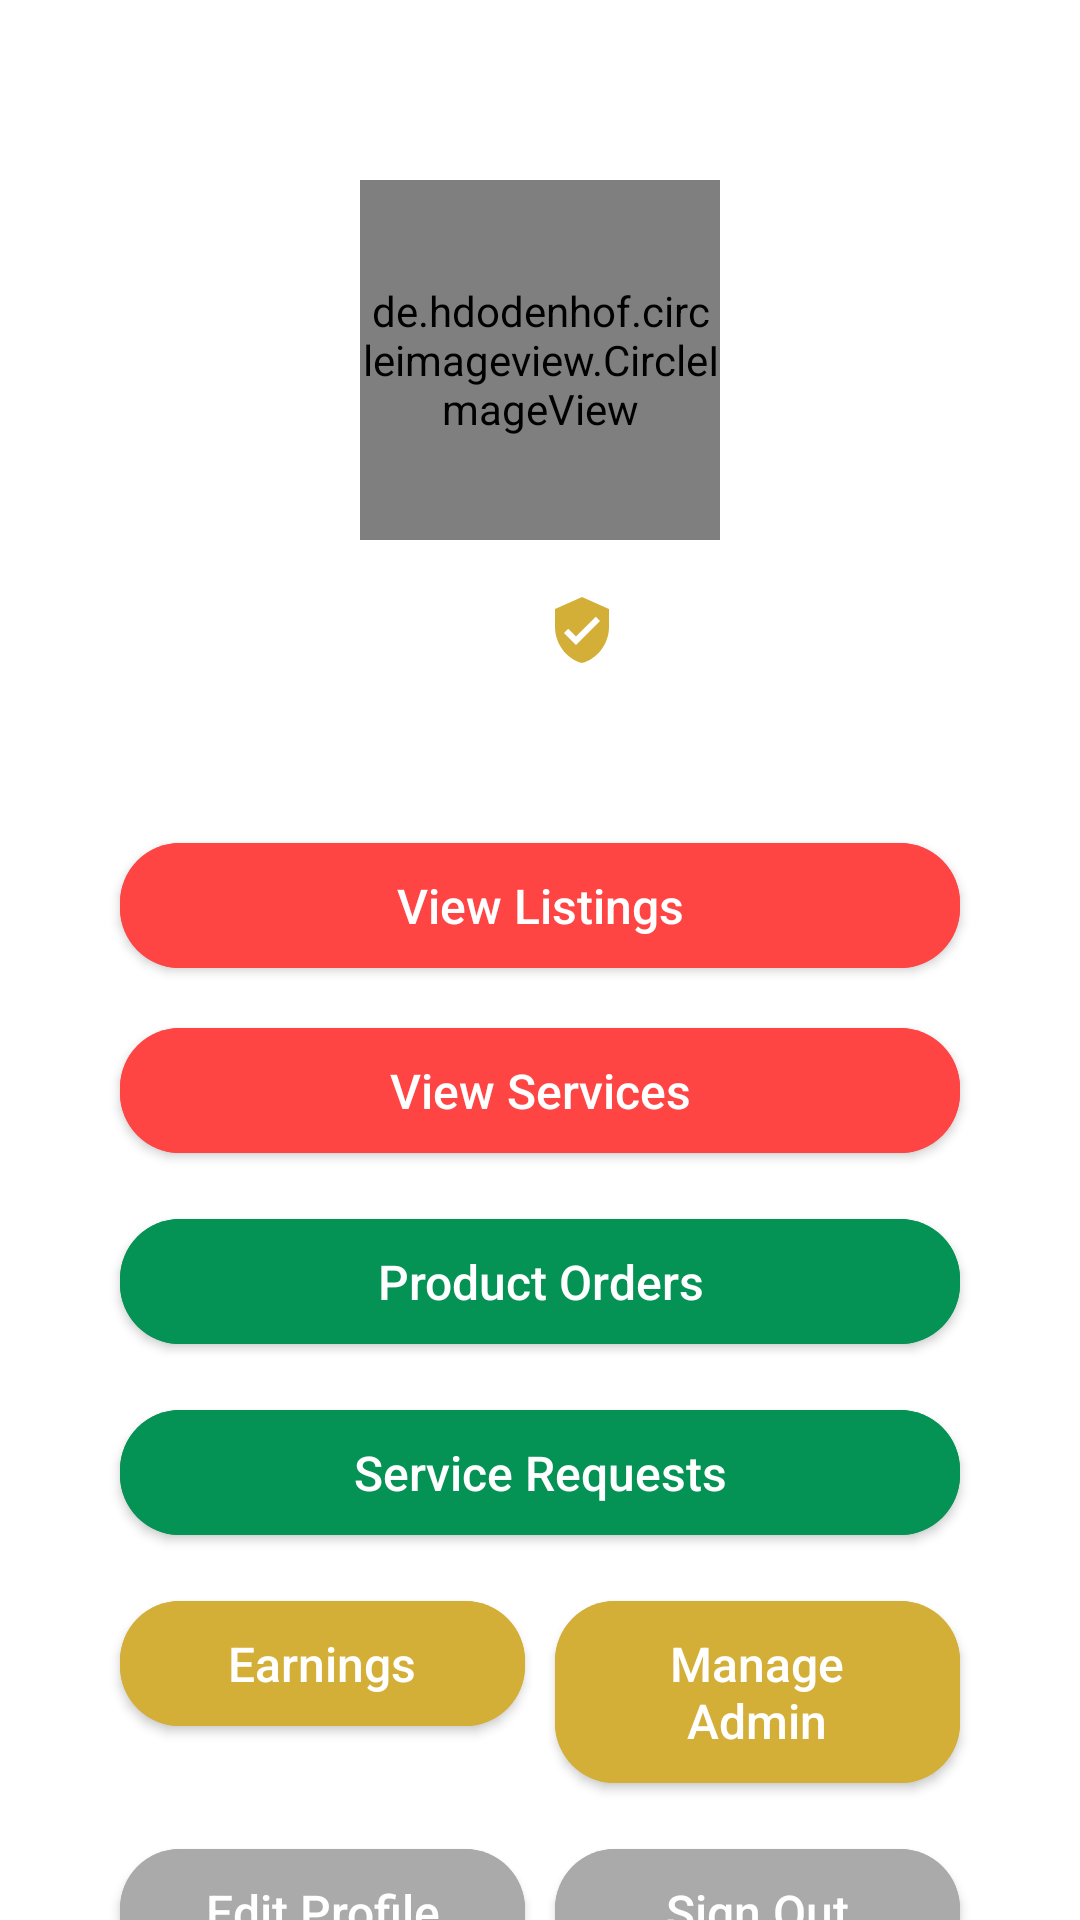

Named icons in this screenshot (1080px x 1920px) and their centers, point (x, y):
verified user: point (582, 630)
